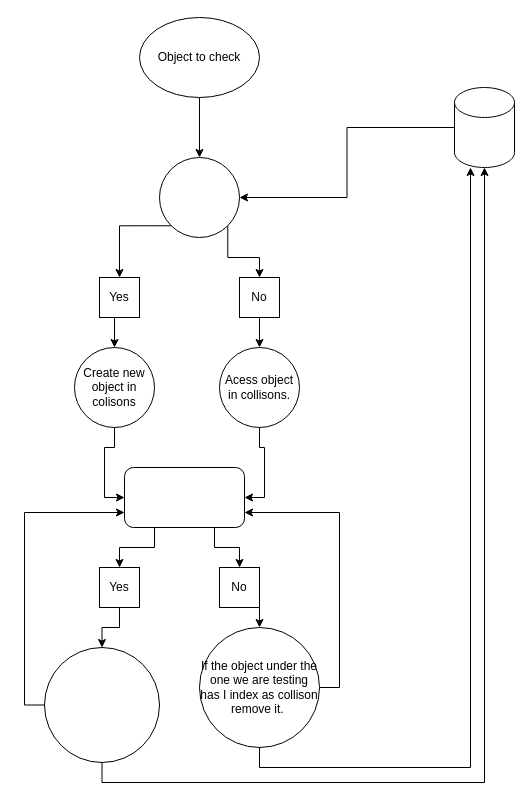
The diagram is 532 pixels wide and 808 high, and some of its shapes have lost their labels. The shapes that lost their labels are listed below. From the top down, each one's centre as x and y in pixels, then its label:
At [484,127]: "Collisons".
At [199,197]: "Is Object already in the collisons array?".
At [184,497]: "For loop. Check each index of i for collison.".
At [102,704]: "Add the collosion to the array inside of the object in the array".
